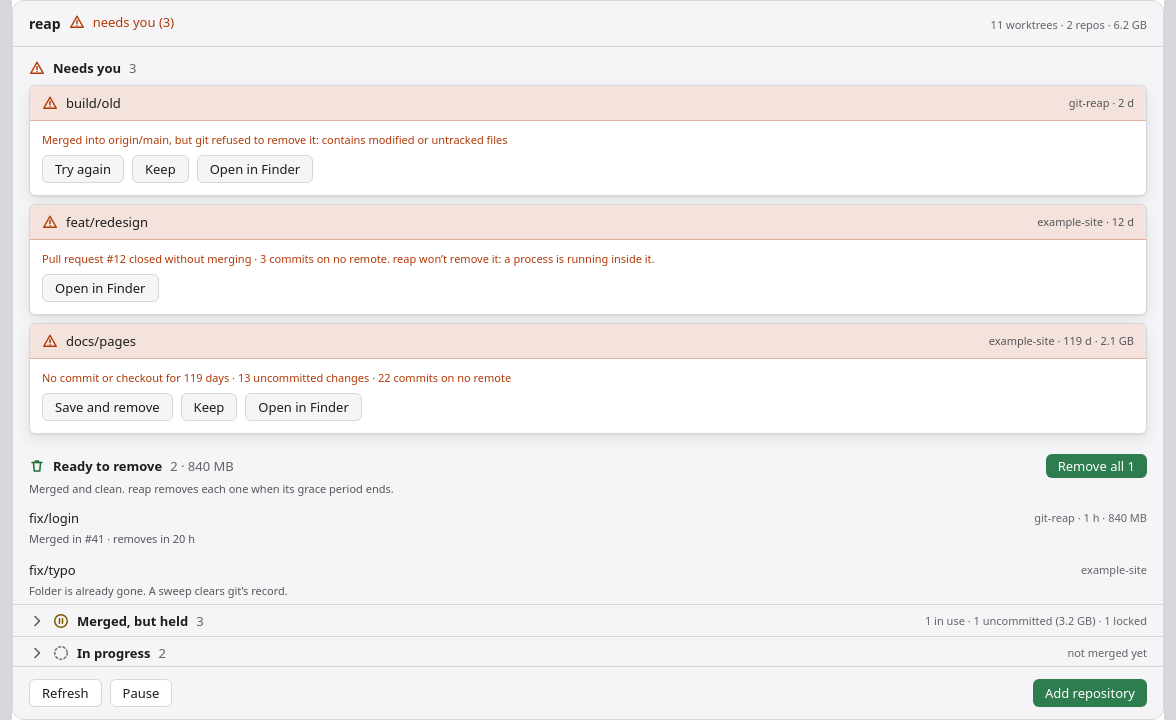
Test: Popover › toggles Pause to Resume, says paused in the header, and makes Resume the primary action
Click the button "Pause" at (141, 693), box x1=110 y1=679 x2=172 y2=707
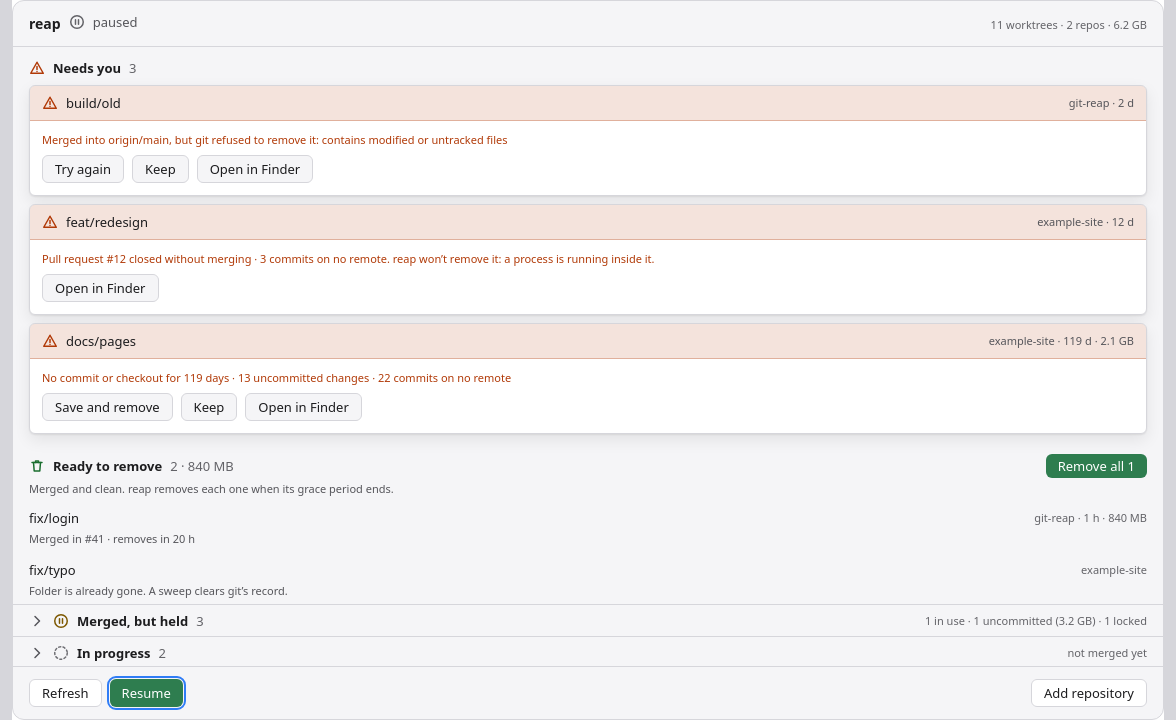
Check: the message reads "paused", box x1=93 y1=13 x2=138 y2=31
